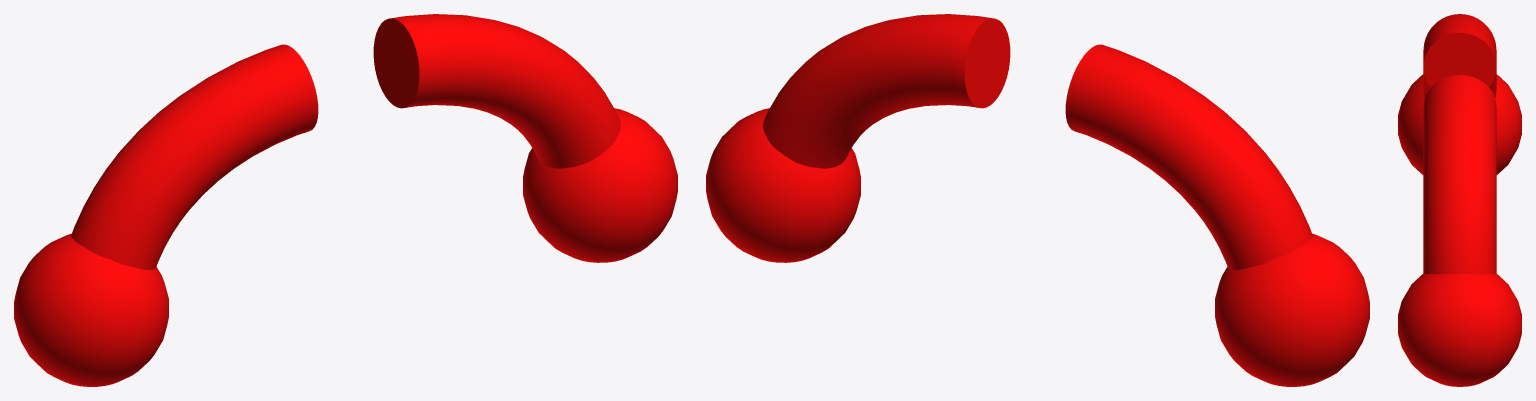
The model's file is Hands0.glb.
3 renders of one model, left to right at view 1: azimuth 30°, elevation 25°; view 2: azimuth 150°, elevation 25°; view 3: azimuth 270°, elevation 25°, orthographic. The views are drawn at different scales.
Parts seen in each view (by area): view 1: Hands0; view 2: Hands0; view 3: Hands0.
Boxes of the visible parts, x1,y1,x2,y2 form: Hands0: (14, 14, 677, 386); Hands0: (706, 14, 1369, 386); Hands0: (1398, 14, 1521, 386).
Bounding box in the file's own units: 359 × 151 × 74.5.
